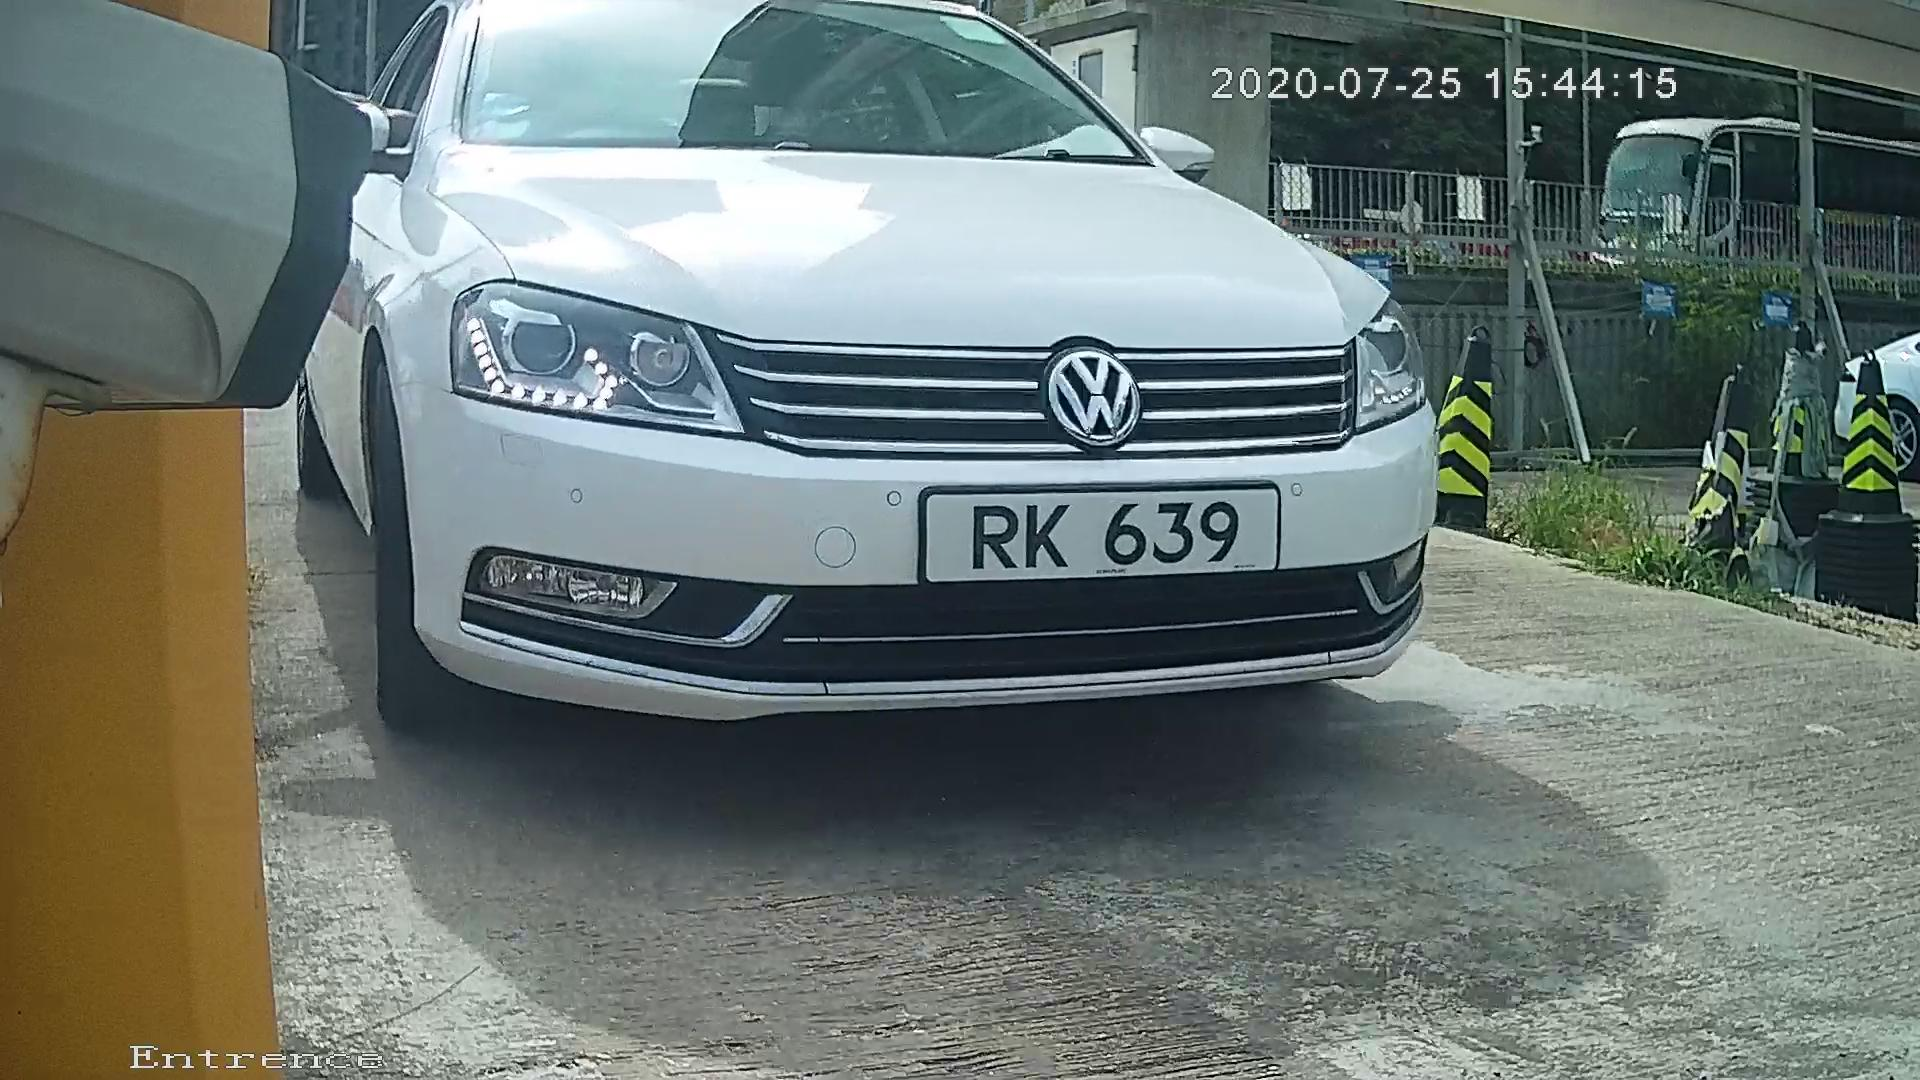License Plate: (858, 473, 1312, 594)
